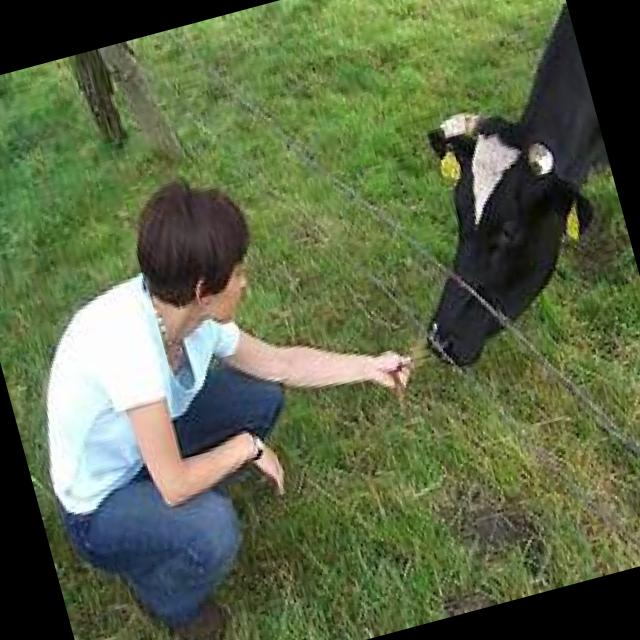animal: (351, 0, 640, 375)
